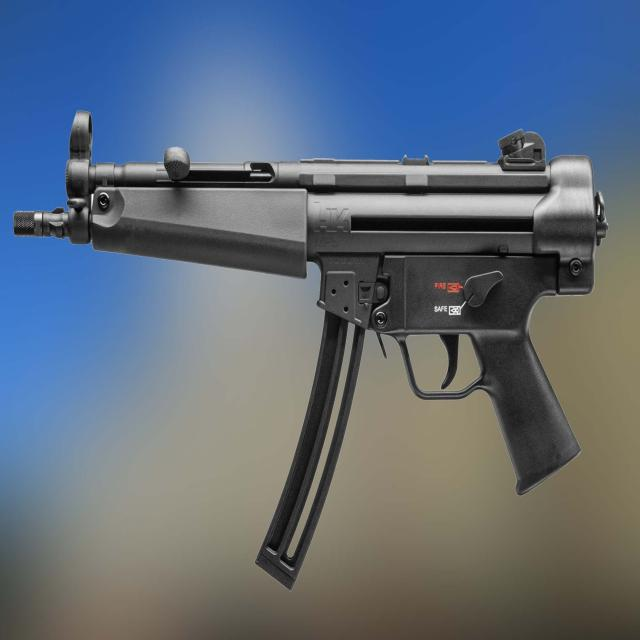SMG: (12, 112, 610, 592)
